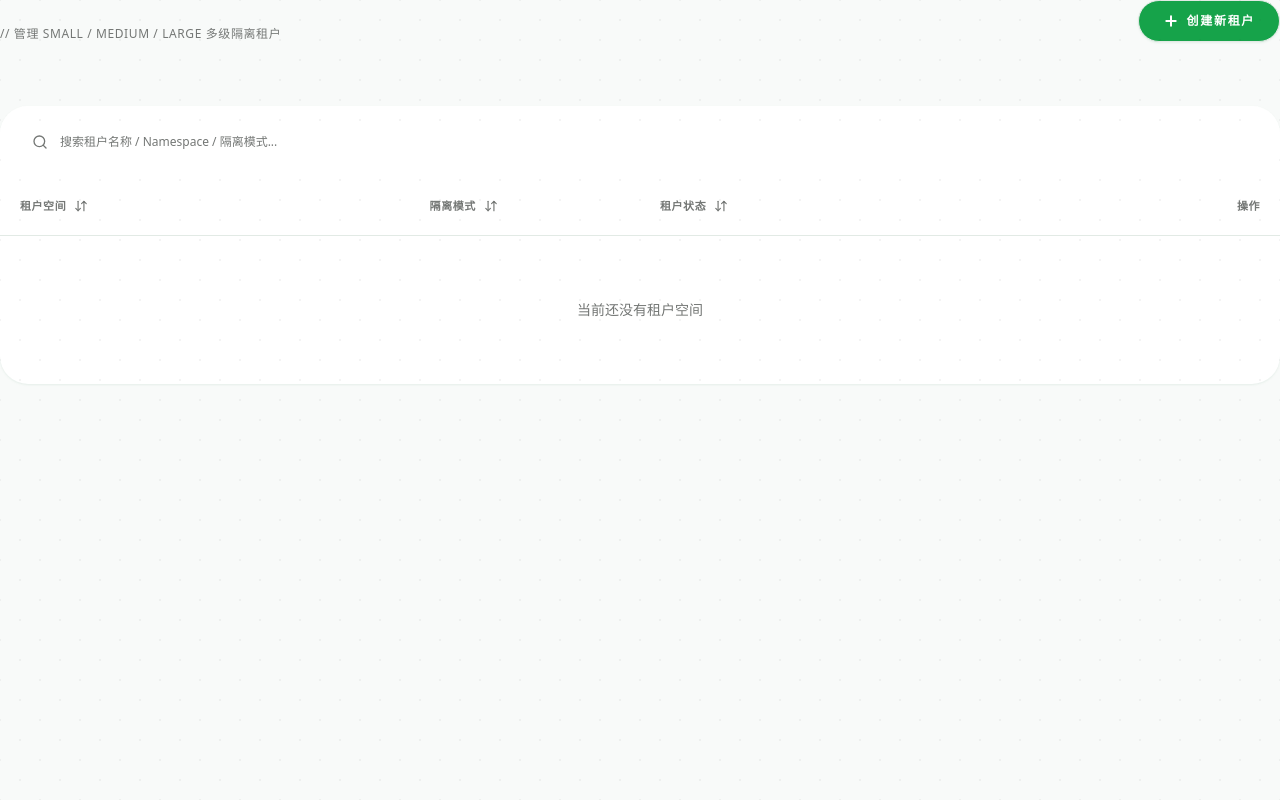
Test: Platform TenantsPage › 切到 LARGE 隔离等级后展示独立数据库配置
The width and height of the screenshot is (1280, 800).
What coordinates should you click on to do the following:
click the button "创建新租户"
I would click on:
 (1209, 21)
Its box is [1138,0,1279,42].
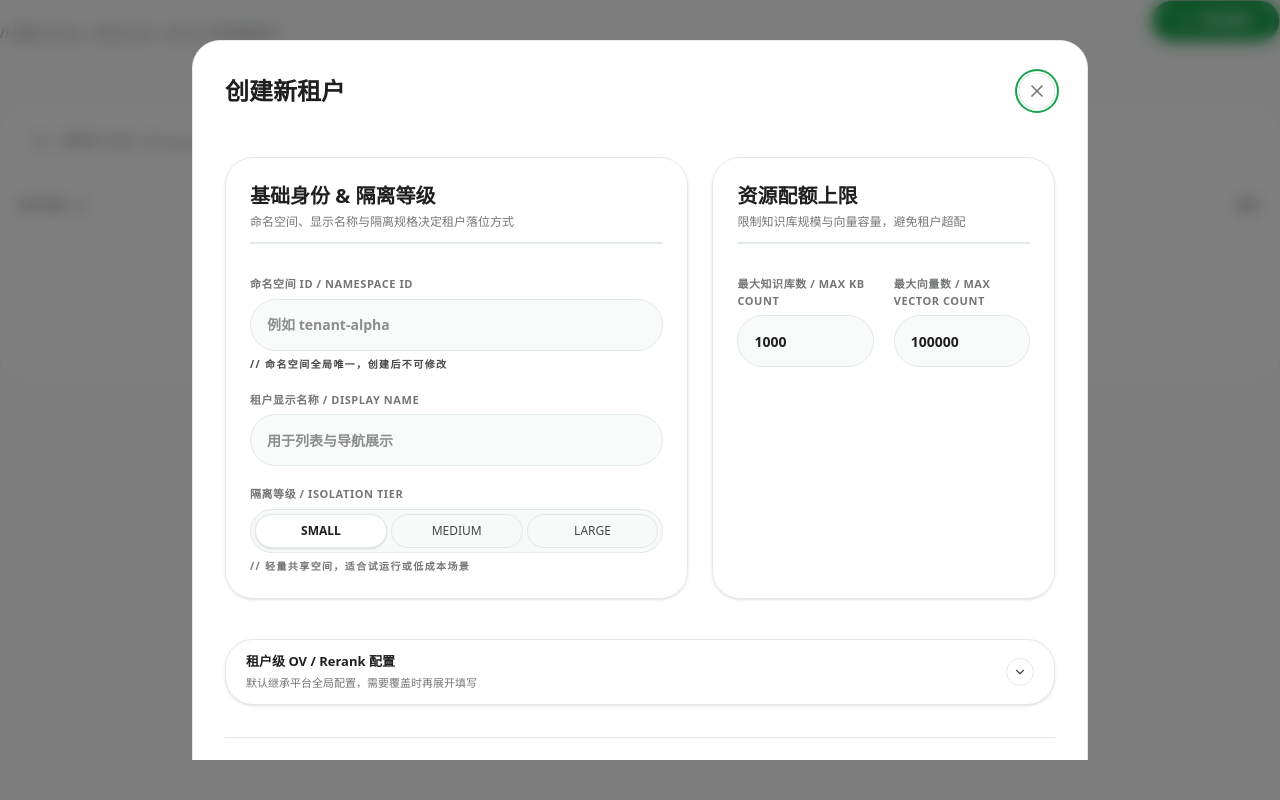
Expected: the text "独立数据库连接配置" is not shown
Expected: the button "LARGE" is shown
What coordinates should you click on to do the following:
click the button "LARGE"
I would click on:
 (592, 530)
Its box is [527,514,658,548].
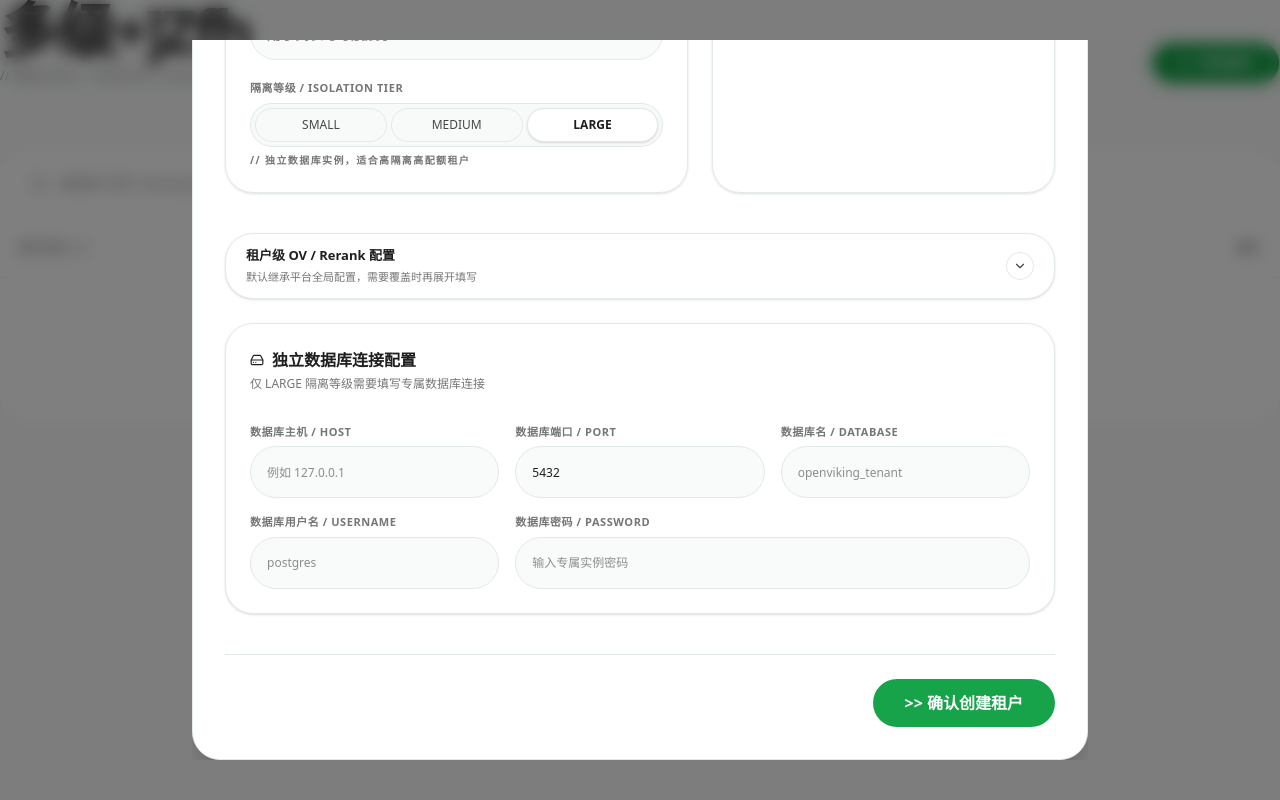
Expected: the field with placeholder "例如 127.0.0.1" is shown, [250,446,499,498]
Expected: the text "独立数据库连接配置" is shown, [250,348,416,372]
Expected: the text "数据库主机 / Host" is shown, [250,424,352,438]
